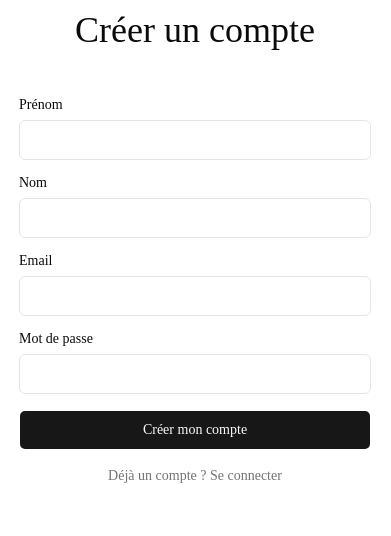
SignupPage › shows the error message returned by signupAction
Type "ada@example.com" into the field labelled "Email" at (195, 296), box [19,276,371,316]
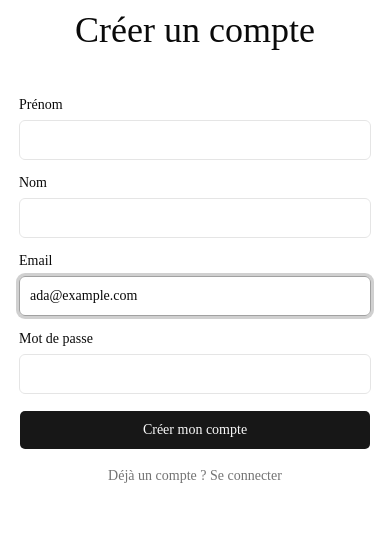
Type "password123" into the password field labelled "Mot de passe" at (195, 374), box [19,354,371,394]
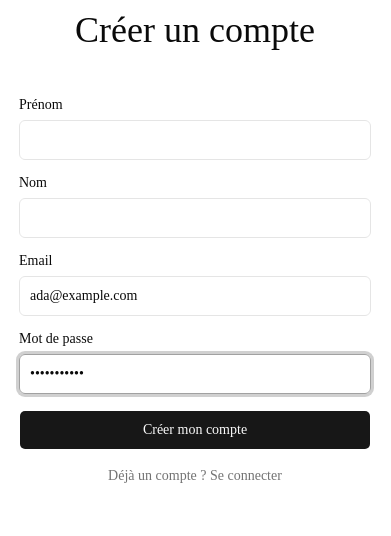
Click the button "Créer mon compte" at (195, 430), box [19,410,371,450]
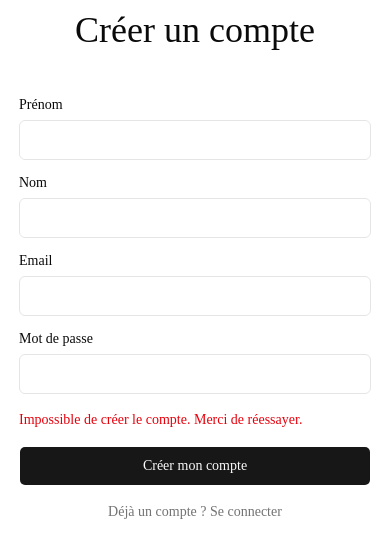
Check: the text "Impossible de créer le compte. Merci de réessayer." is shown, box [19,412,302,427]
